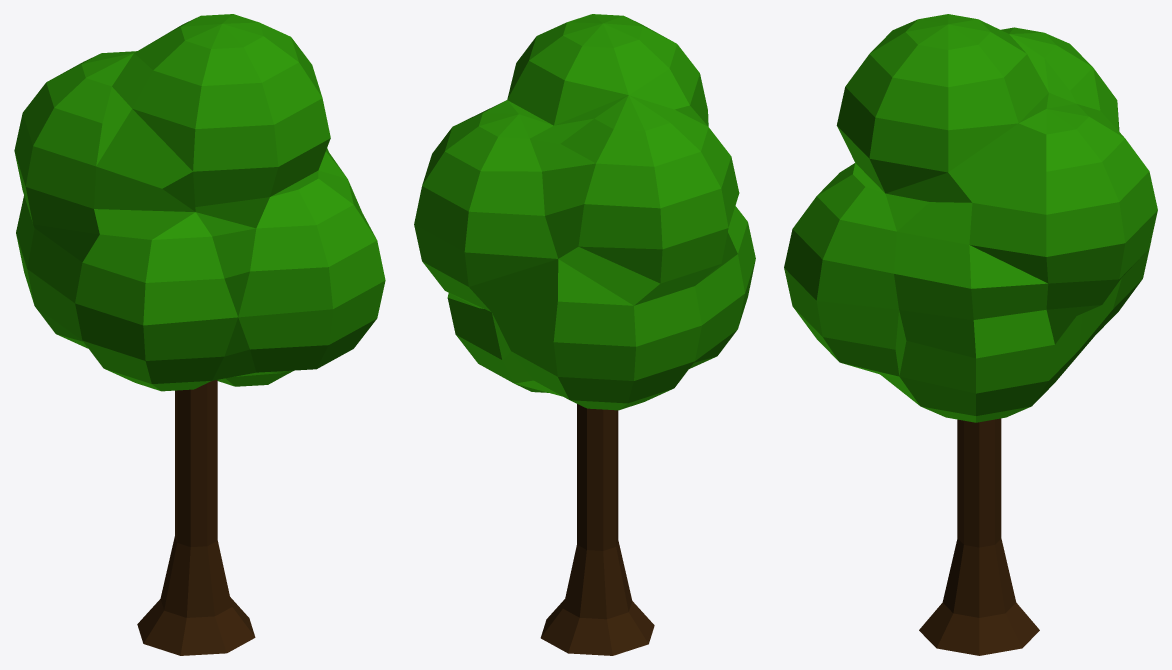
File: tree.fbx
3 views of the same model, side by side, from view 1: azimuth 30°, elevation 25°; view 2: azimuth 150°, elevation 25°; view 3: azimuth 270°, elevation 25° (orthographic). The views are drawn at different scales.
Parts seen in each view (by area): view 1: Sphere.007, Cylinder; view 2: Sphere.007, Cylinder; view 3: Sphere.007, Cylinder.
Part boxes in pixels (x1,y1,x2,y2): Sphere.007: (14,14,385,391); Cylinder: (137,380,255,655); Sphere.007: (414,14,755,410); Cylinder: (540,404,654,655); Sphere.007: (784,14,1157,422); Cylinder: (919,418,1039,655).
Bounding box in the file's own units: 307 × 604 × 335.
